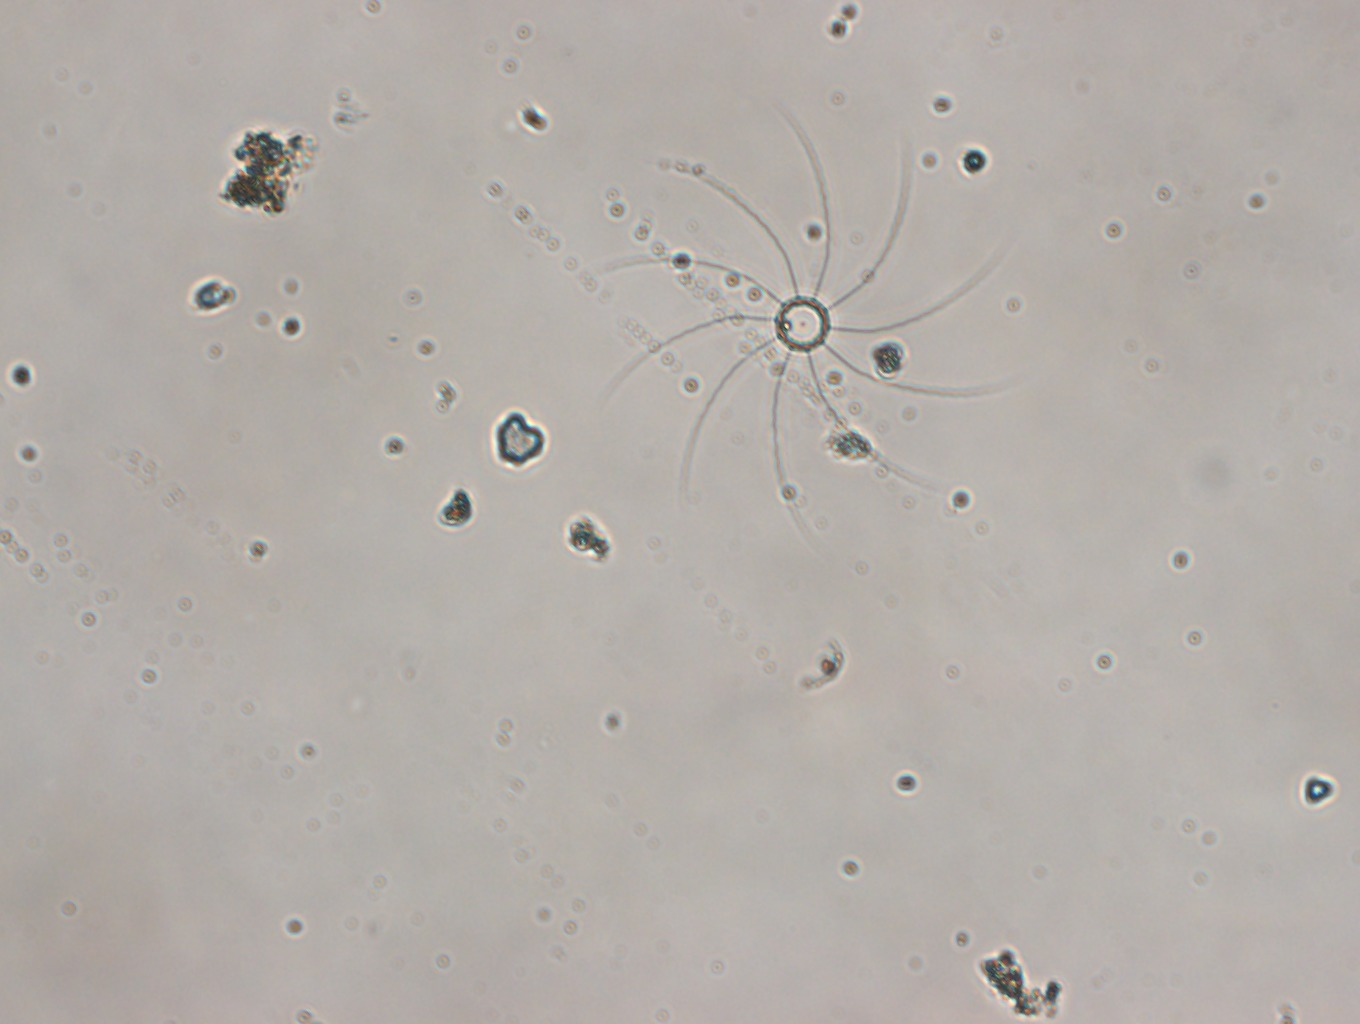bacteriastrum: (603, 101, 1005, 508)
